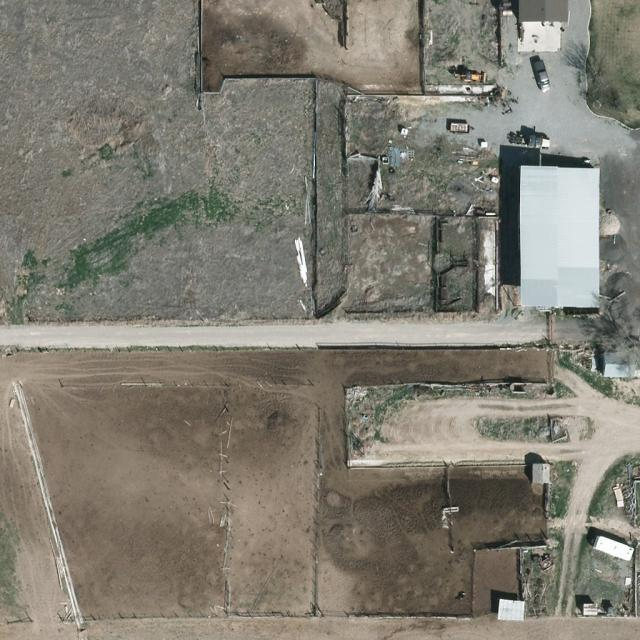vehicle: (509, 129, 550, 154), (533, 60, 553, 92), (612, 488, 626, 508)
